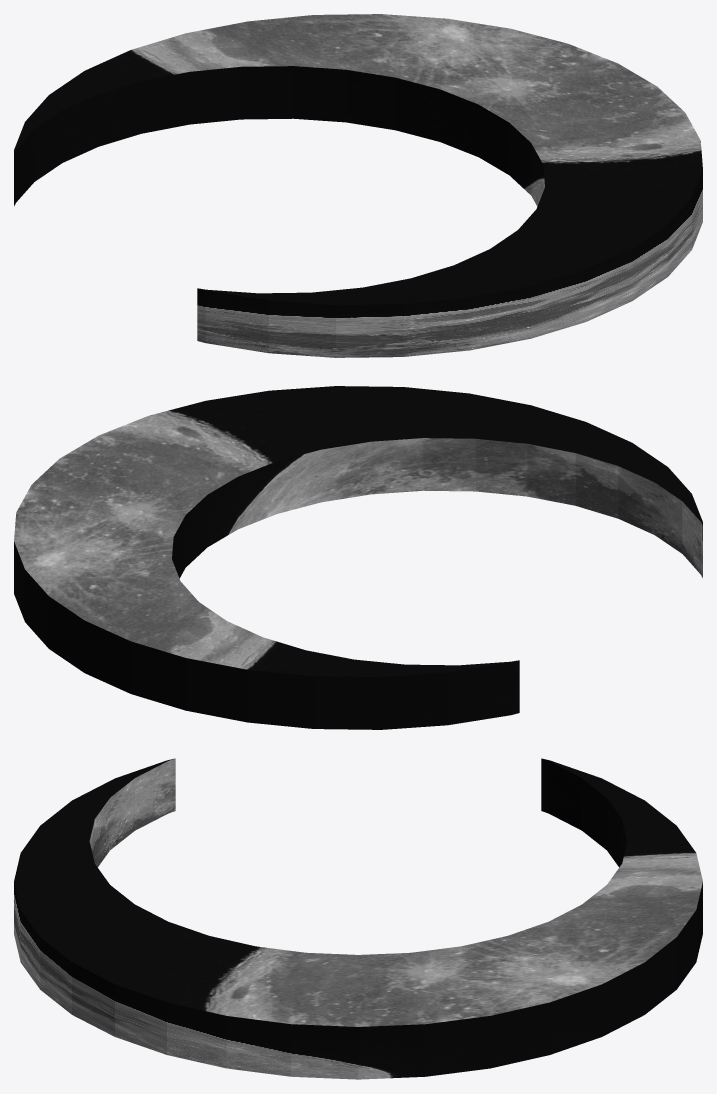
Rendered from crescent_moon.fbx.
3 views of the same model, one above another, from view 1: azimuth 30°, elevation 25°; view 2: azimuth 150°, elevation 25°; view 3: azimuth 270°, elevation 25° (orthographic).
Visible parts, largest first — view 1: Cylinder; view 2: Cylinder; view 3: Cylinder.
Boxes of the visible parts, x1,y1,x2,y2 form: Cylinder: (14, 14, 702, 357); Cylinder: (14, 386, 702, 729); Cylinder: (14, 758, 702, 1079).
Bounding box in the file's own units: 553 × 50.56 × 600.
